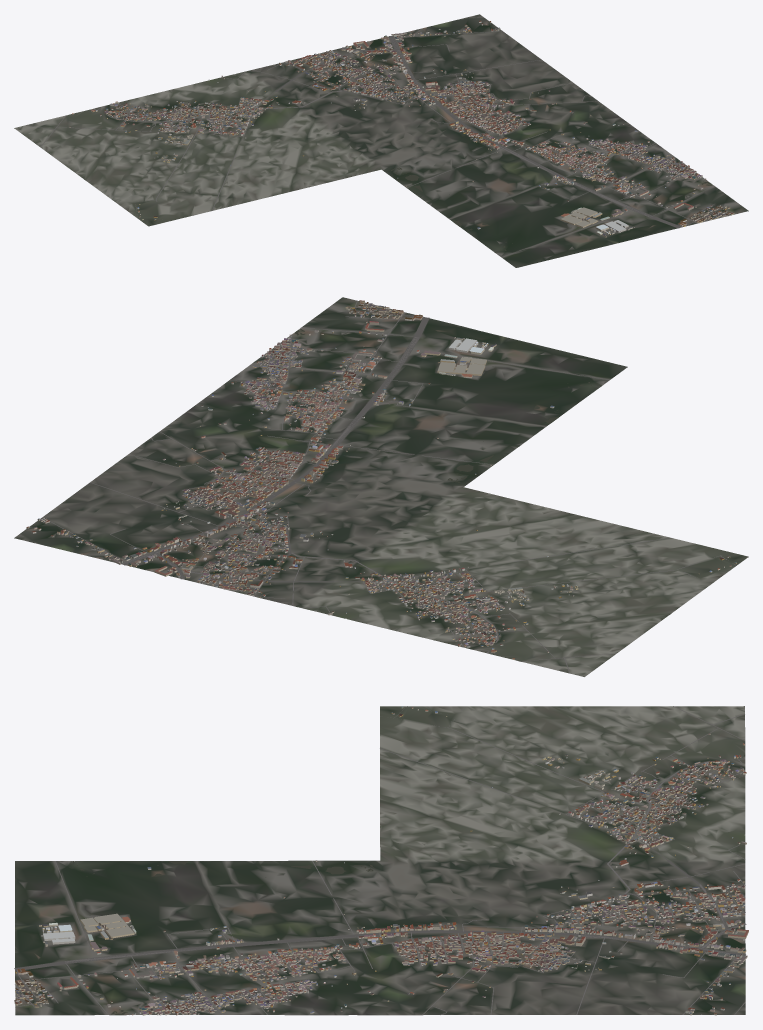
3 views of the same model, one above another, from view 1: azimuth 30°, elevation 25°; view 2: azimuth 150°, elevation 25°; view 3: azimuth 270°, elevation 25° (orthographic). The views are drawn at different scales.
Parts seen in each view (by area): view 1: ground, buildings, roads; view 2: ground, buildings, roads; view 3: ground, buildings, roads.
Boxes of the visible parts, <box> form: ground: <box>14,14,748,267</box>; buildings: <box>69,20,734,237</box>; roads: <box>26,17,738,257</box>; ground: <box>14,297,748,676</box>; buildings: <box>26,300,736,659</box>; roads: <box>19,300,736,673</box>; ground: <box>15,706,745,1015</box>; buildings: <box>14,706,748,1015</box>; roads: <box>14,706,746,1014</box>.
Size of the model in its own units: 2813 by 22.22 by 2821.
